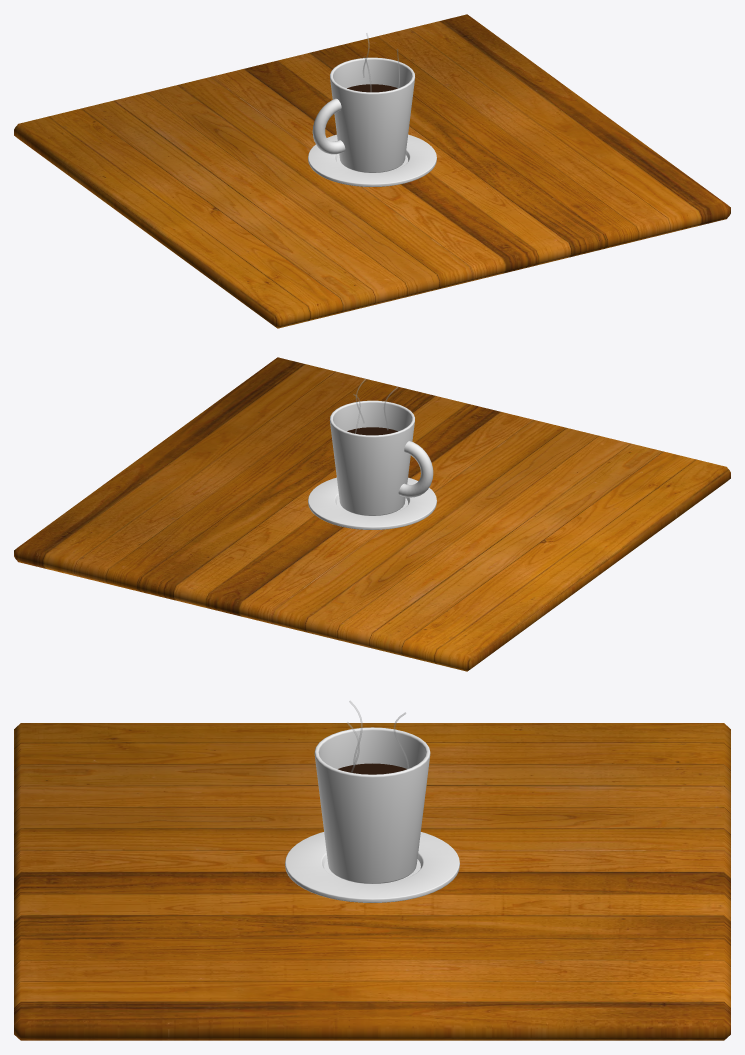
File: coffee-mug.glb
3 views of the same model, one above another, from view 1: azimuth 30°, elevation 25°; view 2: azimuth 150°, elevation 25°; view 3: azimuth 270°, elevation 25° (orthographic). The views are drawn at different scales.
Parts seen in each view (by area): view 1: Plane, Cylinder.cup; view 2: Plane, Cylinder.cup; view 3: Plane, Cylinder.cup, Cylinder.coffee.
Part boxes in pixels (x1=…): Plane: x1=14, y1=14, x2=730, y2=328; Cylinder.cup: x1=308, y1=57, x2=436, y2=186; Plane: x1=14, y1=357, x2=730, y2=671; Cylinder.cup: x1=308, y1=400, x2=436, y2=529; Plane: x1=14, y1=723, x2=730, y2=1040; Cylinder.cup: x1=285, y1=727, x2=459, y2=902; Cylinder.coffee: x1=338, y1=763, x2=406, y2=774.
Bounding box in the file's own units: 14.77 × 4.19 × 14.77.
4 materials, 1 textured.
